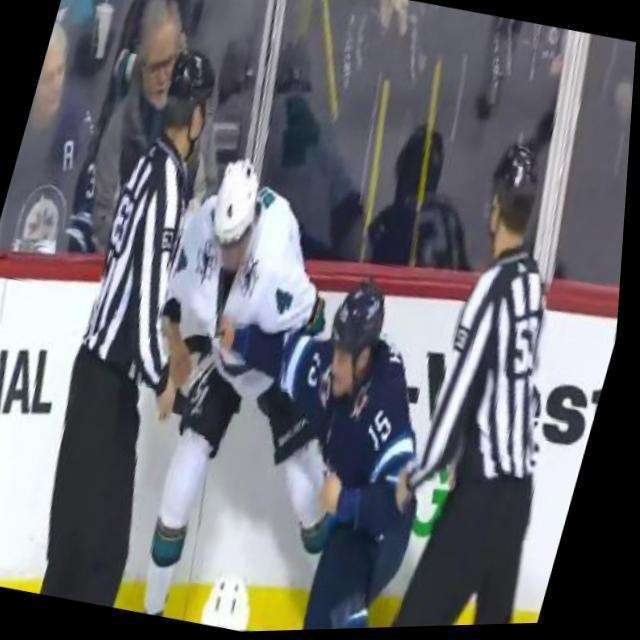fight: (75, 113, 528, 638)
